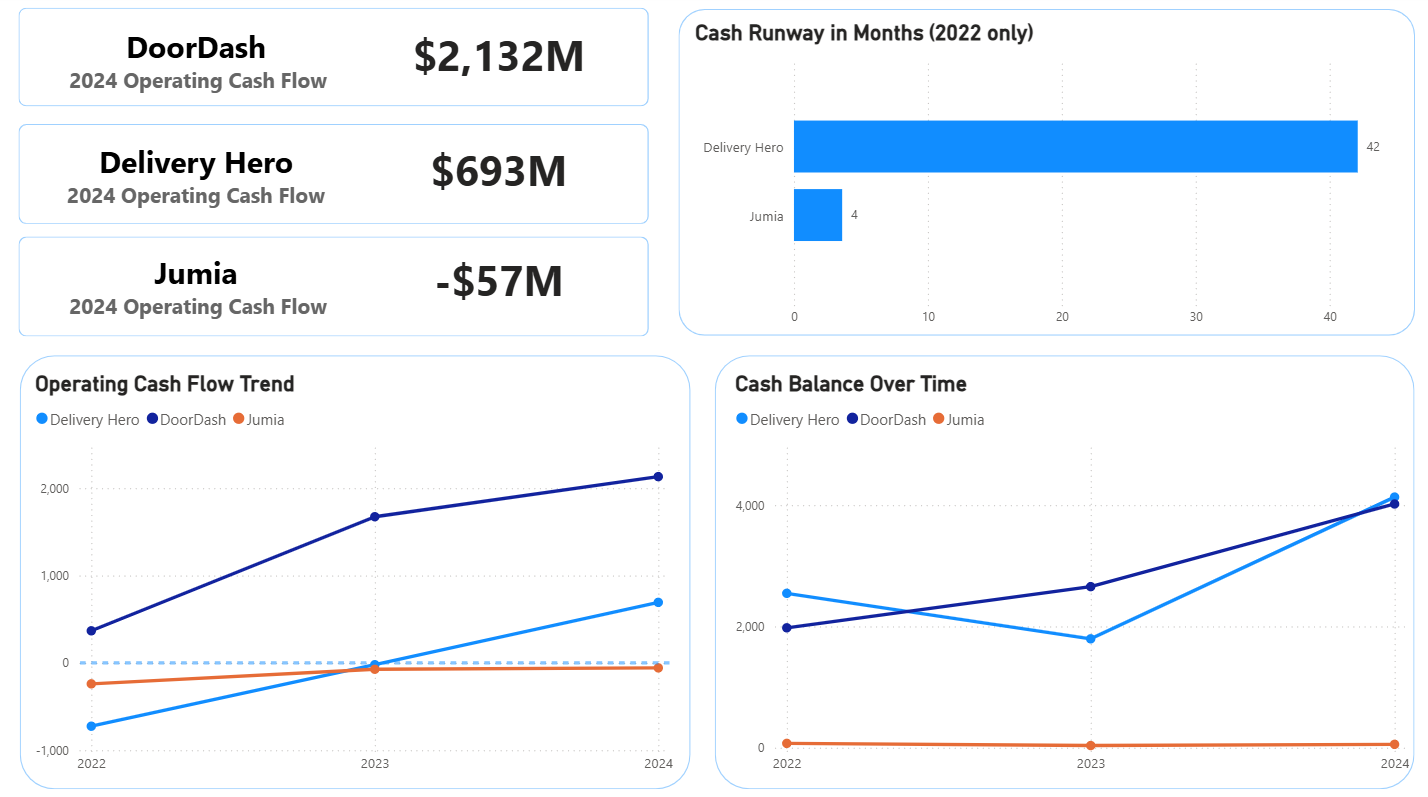

This screenshot's page, from the dashboard's own definition file:
{"tool":"powerbi","page":{"name":"Cash Position","canvas":[1280,720],"ordinal":2},"visuals":[{"type":"shape","box":[20.7,321.9,597.3,386.6],"z":0},{"type":"shape","box":[640,321.9,623.2,386.6],"z":1000},{"type":"lineChart","title":"Operating Cash Flow Trend","fields":{"Category":["Master Data.Year"],"Y":["Sum(Master Data.Operating_CF_USD)"],"Series":["Master Data.Company"]},"box":[29.7,336.2,577.9,367.2],"z":2000},{"type":"lineChart","title":"Cash Balance Over Time","fields":{"Category":["Master Data.Year"],"Series":["Master Data.Company"],"Y":["Sum(Master Data.Cash_USD)"]},"box":[652.9,336.2,610.3,367.2],"z":3000},{"type":"shape","box":[607.9,13.7,655.9,290.9],"z":4000},{"type":"barChart","title":" Cash Runway in Months (2022 only)","fields":{"Y":["Sum(Master Data.Cash_Runway_Months)"],"Category":["Master Data.Company"]},"box":[617.5,23.3,634,281.3],"z":5000},{"type":"shape","box":[20.6,12.3,561.2,87.8],"z":6000},{"type":"shape","box":[20.6,115.3,561.2,89.2],"z":7000},{"type":"shape","box":[20.6,215.4,561.2,89.2],"z":8000},{"type":"textbox","box":[29.7,23.3,296.1,69.8],"z":9000},{"type":"textbox","box":[29.7,125.4,296.1,69.8],"z":10000},{"type":"textbox","box":[29.7,225,296.1,69.8],"z":11000},{"type":"textbox","box":[325.2,23.3,245.6,70],"z":12000},{"type":"textbox","box":[325.2,126.2,245.6,70],"z":13000},{"type":"textbox","box":[325.2,223.7,245.6,70],"z":14000}]}

Visuals, with their boxes in screenshot pixels (x1, y1, x2, y2), scaled from the page's 1280x720 canvas onto the 1428x797 screenshot:
shape: (x1=23, y1=356, x2=689, y2=784)
shape: (x1=714, y1=356, x2=1409, y2=784)
"Operating Cash Flow Trend" lineChart: (x1=33, y1=372, x2=678, y2=779)
"Cash Balance Over Time" lineChart: (x1=728, y1=372, x2=1409, y2=779)
shape: (x1=678, y1=15, x2=1410, y2=337)
" Cash Runway in Months (2022 only)" barChart: (x1=689, y1=26, x2=1396, y2=337)
shape: (x1=23, y1=14, x2=649, y2=111)
shape: (x1=23, y1=128, x2=649, y2=226)
shape: (x1=23, y1=238, x2=649, y2=337)
textbox: (x1=33, y1=26, x2=363, y2=103)
textbox: (x1=33, y1=139, x2=363, y2=216)
textbox: (x1=33, y1=249, x2=363, y2=326)
textbox: (x1=363, y1=26, x2=637, y2=103)
textbox: (x1=363, y1=140, x2=637, y2=217)
textbox: (x1=363, y1=248, x2=637, y2=325)
